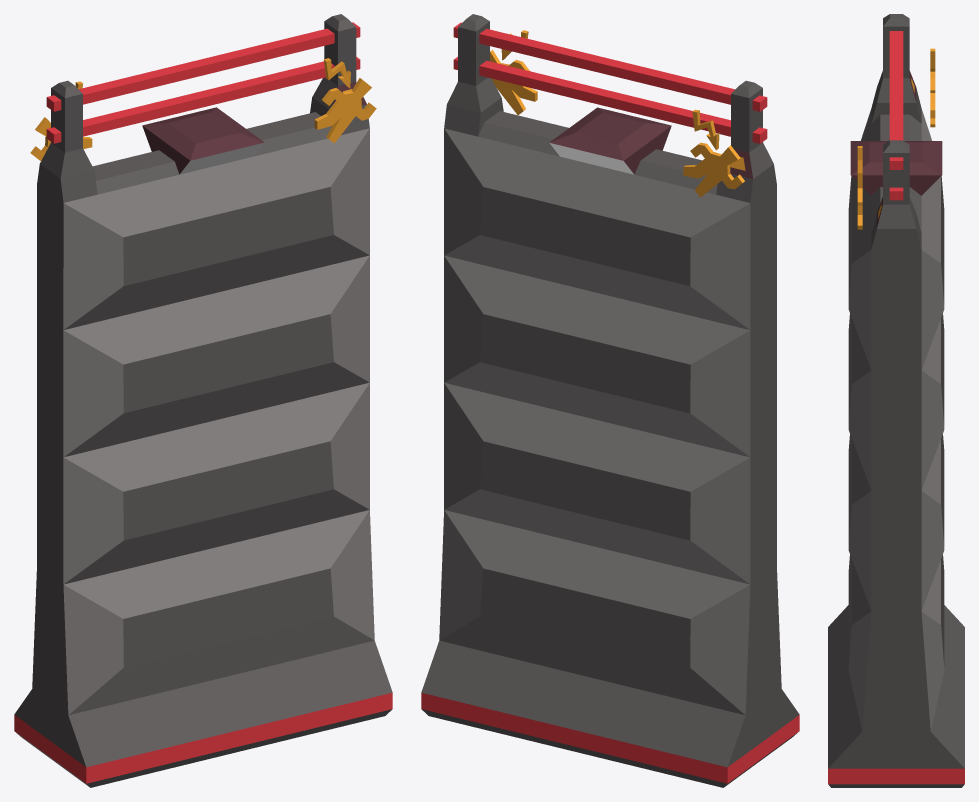
File: scifi-barrier-large-electric-sign.fbx
3 views of the same model, side by side, from view 1: azimuth 30°, elevation 25°; view 2: azimuth 150°, elevation 25°; view 3: azimuth 270°, elevation 25° (orthographic). The views are drawn at different scales.
Visible parts, largest first — view 1: scifi-barrier-large-electric-sign; view 2: scifi-barrier-large-electric-sign; view 3: scifi-barrier-large-electric-sign.
Part boxes in pixels (x1=…): scifi-barrier-large-electric-sign: x1=14, y1=14, x2=392, y2=787; scifi-barrier-large-electric-sign: x1=421, y1=14, x2=799, y2=787; scifi-barrier-large-electric-sign: x1=828, y1=14, x2=964, y2=787.
Size of the model in its own units: 2.01 by 4.24 by 0.8201.
